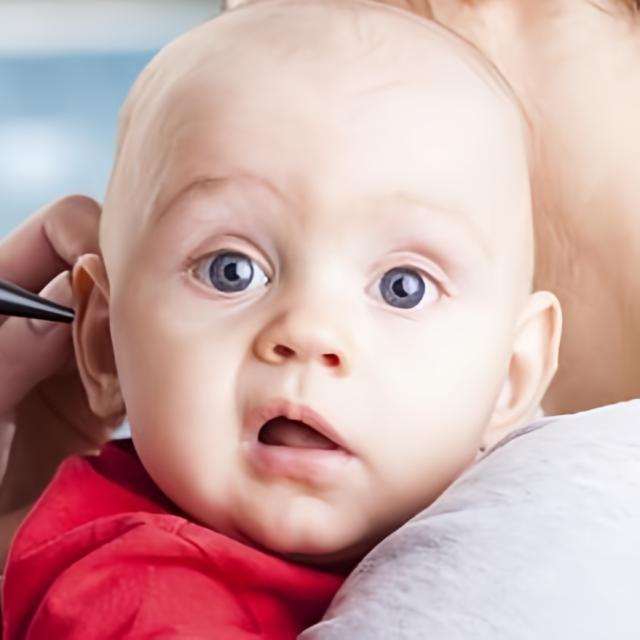surprise: (109, 6, 534, 560)
